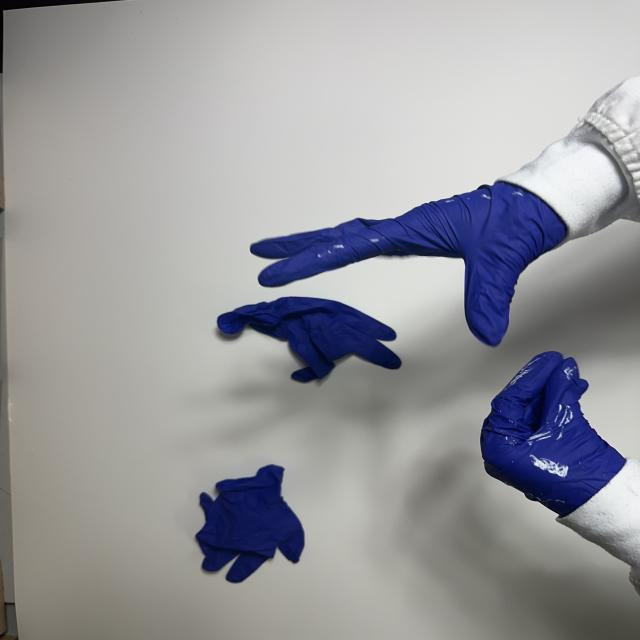gloves_contaminated: (252, 182, 567, 346), (481, 352, 623, 516)
